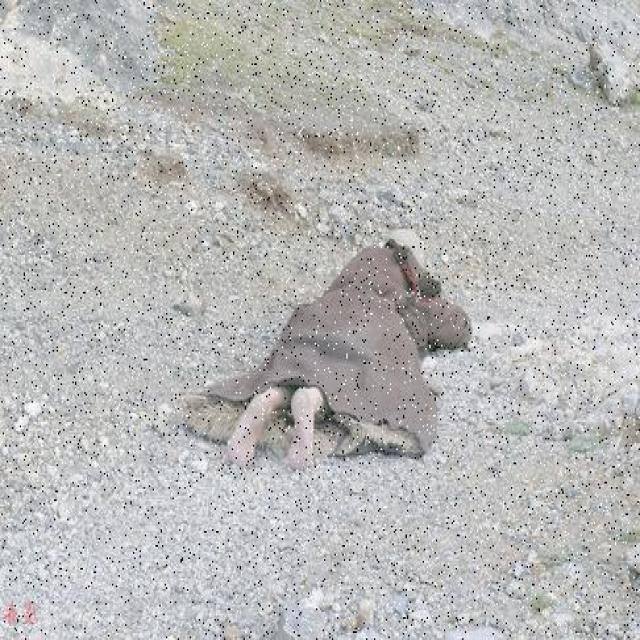fall: (222, 230, 453, 464)
